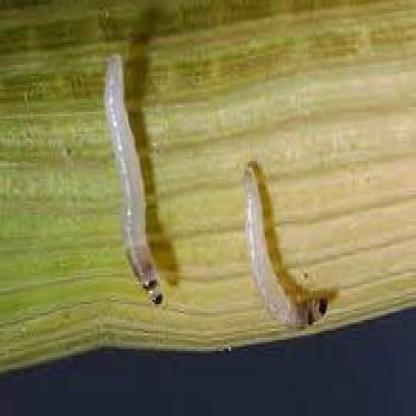whorl-maggot: (95, 47, 176, 316), (238, 157, 331, 332)
